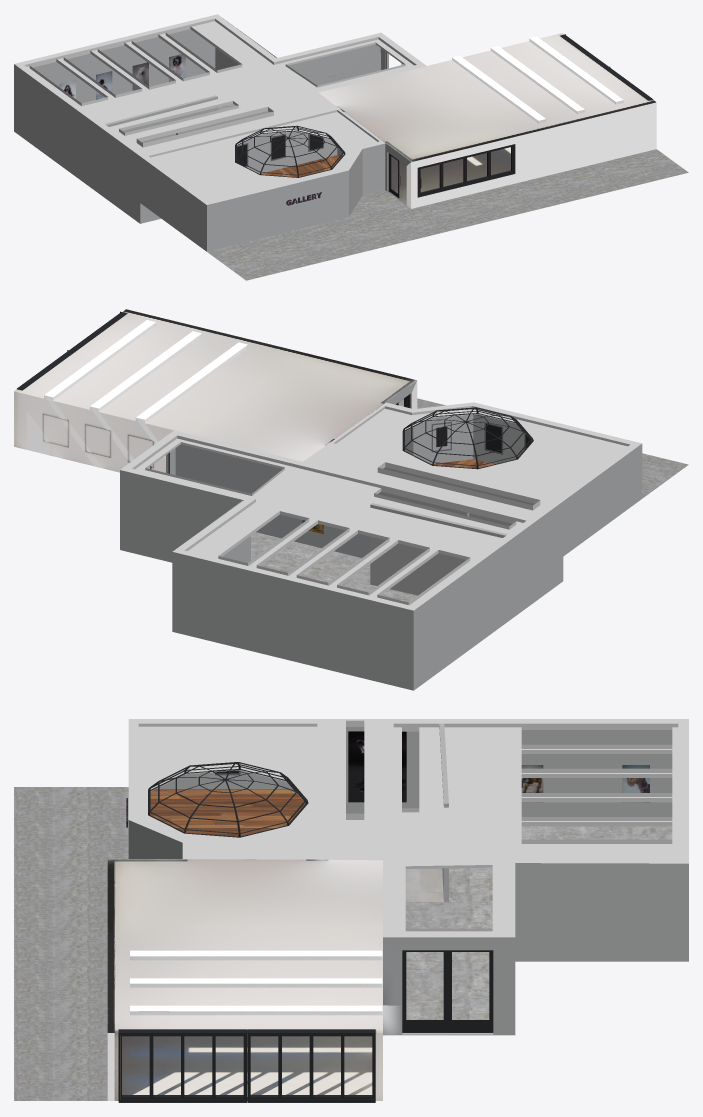
The model's file is art-gallery5.glb.
3 views of the same model, one above another, from view 1: azimuth 30°, elevation 25°; view 2: azimuth 150°, elevation 25°; view 3: azimuth 270°, elevation 25° (orthographic). The views are drawn at different scales.
Visible parts, largest first — view 1: Paredes, Teto.001, ParedesPrincipais, Chao_fora, Chao_entrada, LuzesEmission, Todos os quadros, Sphere.002, Janelas_entrada, Chao_madeira; view 2: Paredes, Teto.001, ParedesPrincipais, Chao_inferior, LuzesEmission, Sphere.002, Chao_fora, Todos os quadros; view 3: Teto.001, ParedesPrincipais, Paredes, Chao_fora, Chao_entrada, Chao_inferior, Chao_madeira, LuzesEmission, Janelas, Janelas.001, Sphere.002, Todos os quadros (+1 smaller).
Boxes of the visible parts, box(x1,y1,x2,y2) form: Paredes: box(14, 21, 410, 251); Teto.001: box(14, 14, 426, 204); ParedesPrincipais: box(318, 33, 656, 208); Chao_fora: box(207, 149, 688, 280); Chao_entrada: box(338, 137, 510, 205); LuzesEmission: box(452, 36, 623, 120); Todos os quadros: box(59, 54, 389, 202); Sphere.002: box(235, 125, 345, 177); Janelas_entrada: box(417, 144, 515, 197); Chao_madeira: box(261, 155, 340, 177); Paredes: box(120, 380, 642, 690); Teto.001: box(120, 402, 641, 610); ParedesPrincipais: box(14, 309, 417, 472); Chao_inferior: box(251, 532, 417, 602); LuzesEmission: box(44, 320, 247, 419); Sphere.002: box(402, 407, 533, 469); Chao_fora: box(374, 398, 688, 498); Todos os quadros: box(302, 394, 531, 534); Teto.001: box(128, 719, 688, 937); ParedesPrincipais: box(107, 859, 382, 1100); Paredes: box(108, 723, 688, 1035); Chao_fora: box(14, 787, 128, 1100); Chao_entrada: box(122, 868, 443, 1100); Chao_inferior: box(405, 826, 672, 1019); Chao_madeira: box(150, 789, 305, 836); LuzesEmission: box(130, 950, 382, 1011); Janelas: box(247, 1029, 375, 1102); Janelas.001: box(118, 1029, 246, 1102); Sphere.002: box(148, 762, 308, 837); Todos os quadros: box(126, 731, 649, 818).
Size of what is drawn, in the model's own units: 62.24 by 11.01 by 56.35.
Materials: 30 (18 with a texture image).
